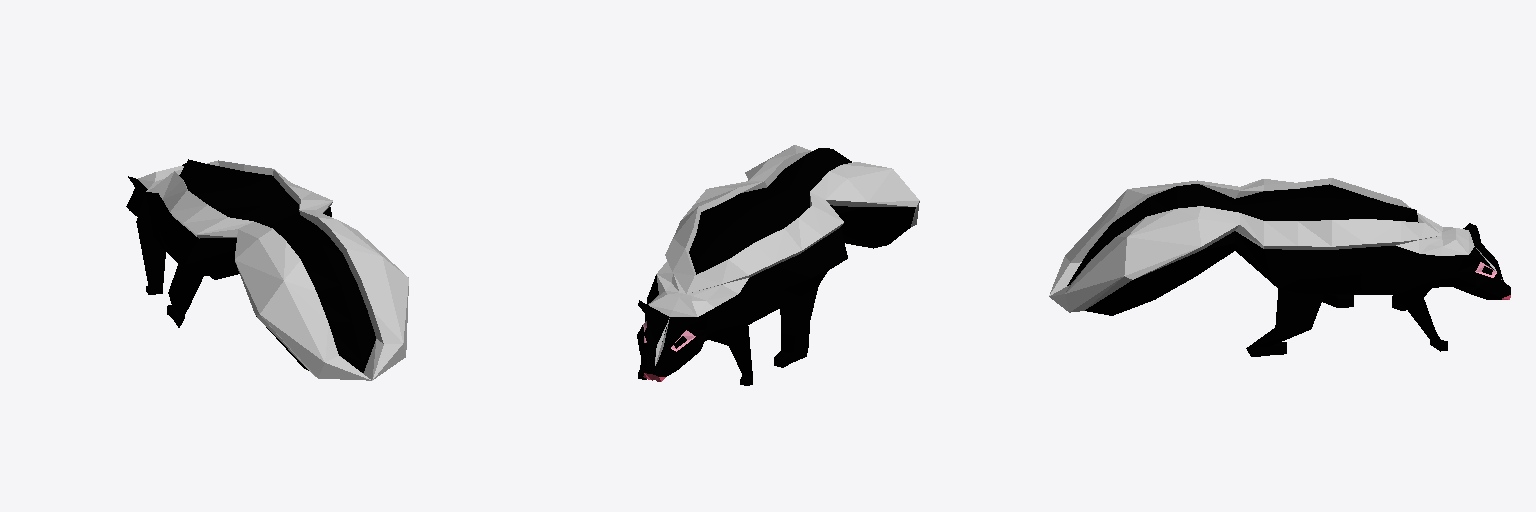
3 renders of one model, left to right at view 1: azimuth 30°, elevation 25°; view 2: azimuth 150°, elevation 25°; view 3: azimuth 270°, elevation 25°, orthographic.
Parts seen in each view (by area): view 1: Muffa_Cube.001; view 2: Muffa_Cube.001; view 3: Muffa_Cube.001.
Part boxes in pixels (x1,y1,x2,y2): Muffa_Cube.001: (126, 159, 408, 380); Muffa_Cube.001: (637, 145, 919, 385); Muffa_Cube.001: (1049, 178, 1510, 356).
Bounding box in the file's own units: 1.84 × 1.69 × 4.87.
4 materials, 1 textured.